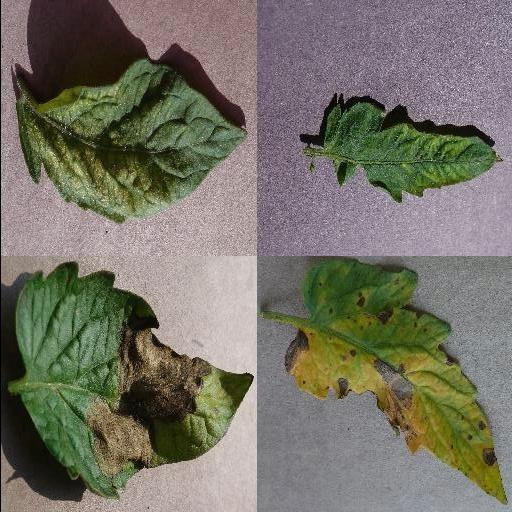Early Blight: (283, 258, 507, 506)
Late Blight: (15, 262, 255, 500)
Mosaic Virus: (320, 100, 504, 204)
Spider Mites: (16, 61, 248, 223)
